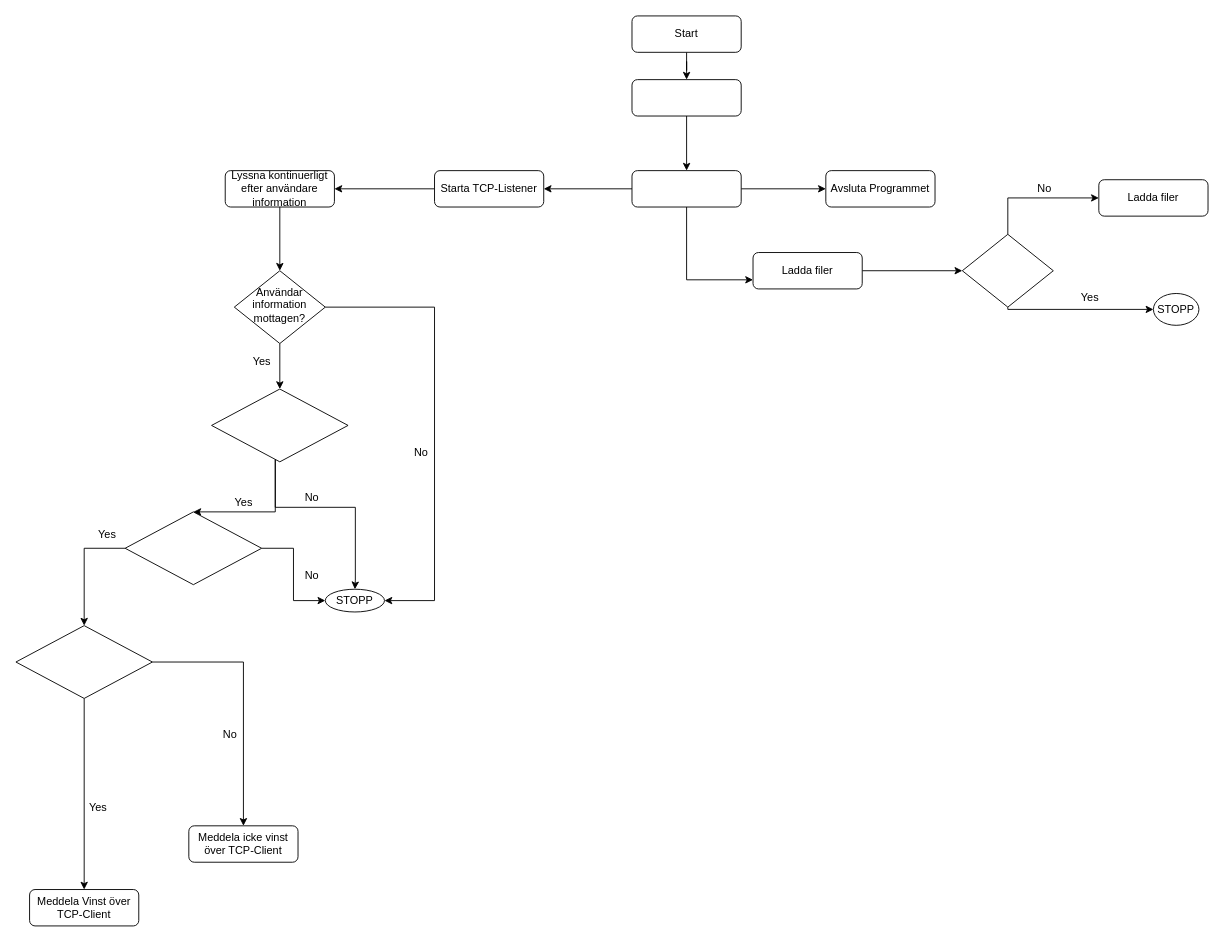
Some shapes in this 1224 by 942 pixel diagram are drawn without their labels. The shapes that lost their labels are listed below. From the top down, each one's centre as x and y in pixels, then its label:
[686,97]: Skriv ut Design
[686,188]: Huvudnmeny
[1007,270]: Har filerna redan laddats?
[279,425]: Är användare ID:t registerat?
[193,548]: Har användaren ett guldkort?
[83,661]: Har användaren vunnit?
